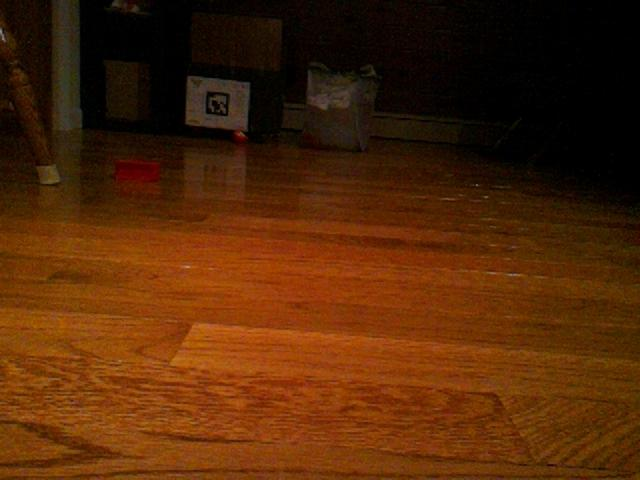red: (113, 157, 163, 184)
